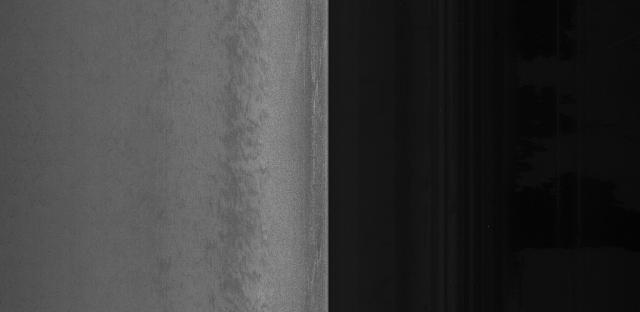silk_spot: (211, 111, 273, 192)
